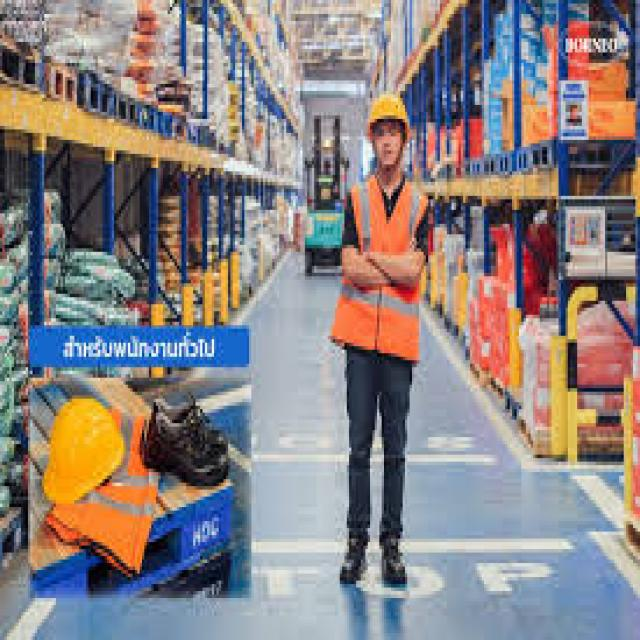Reflective-Jacket: (328, 172, 433, 368)
Safety-Helmet: (42, 392, 130, 507), (361, 88, 414, 136)
